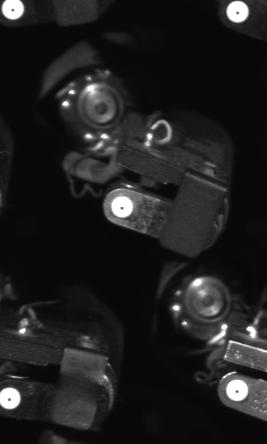fiber: (222, 375, 255, 407), (217, 1, 255, 27), (108, 189, 137, 223), (1, 383, 26, 413), (1, 1, 28, 25)
